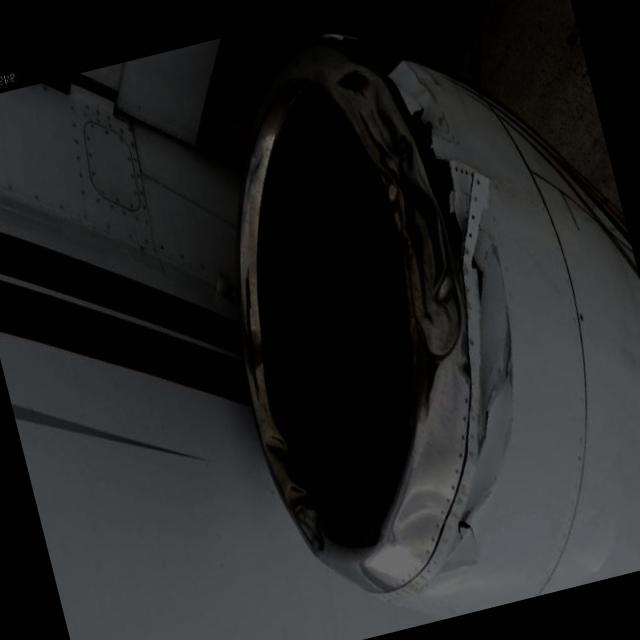dent: (324, 50, 483, 362), (395, 365, 481, 469), (382, 480, 458, 560), (284, 478, 326, 558), (260, 430, 294, 482)
